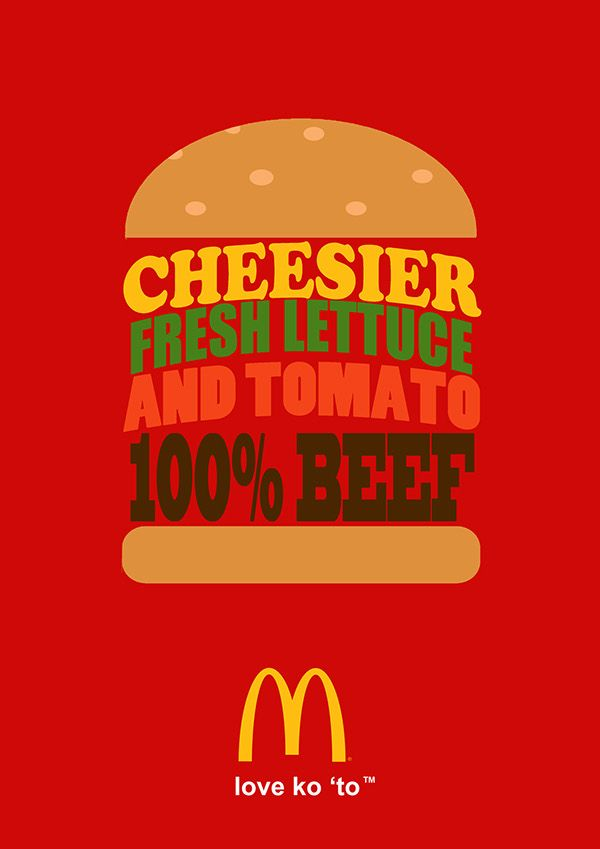Headline: (115, 247, 500, 527)
logo: (227, 657, 380, 809)
